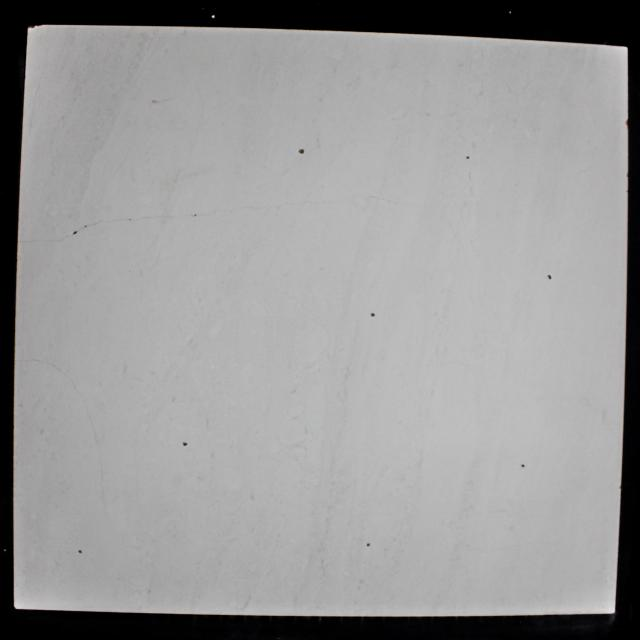edge-chipping: (624, 118, 629, 128)
hole: (28, 25, 44, 29), (298, 148, 306, 155), (182, 440, 189, 448), (370, 311, 376, 319), (78, 548, 84, 555), (547, 274, 552, 281), (366, 542, 372, 547), (72, 230, 78, 235), (466, 154, 470, 160), (520, 463, 524, 468), (194, 214, 197, 217)
line: (57, 234, 71, 242), (90, 220, 106, 227), (20, 240, 38, 243)
